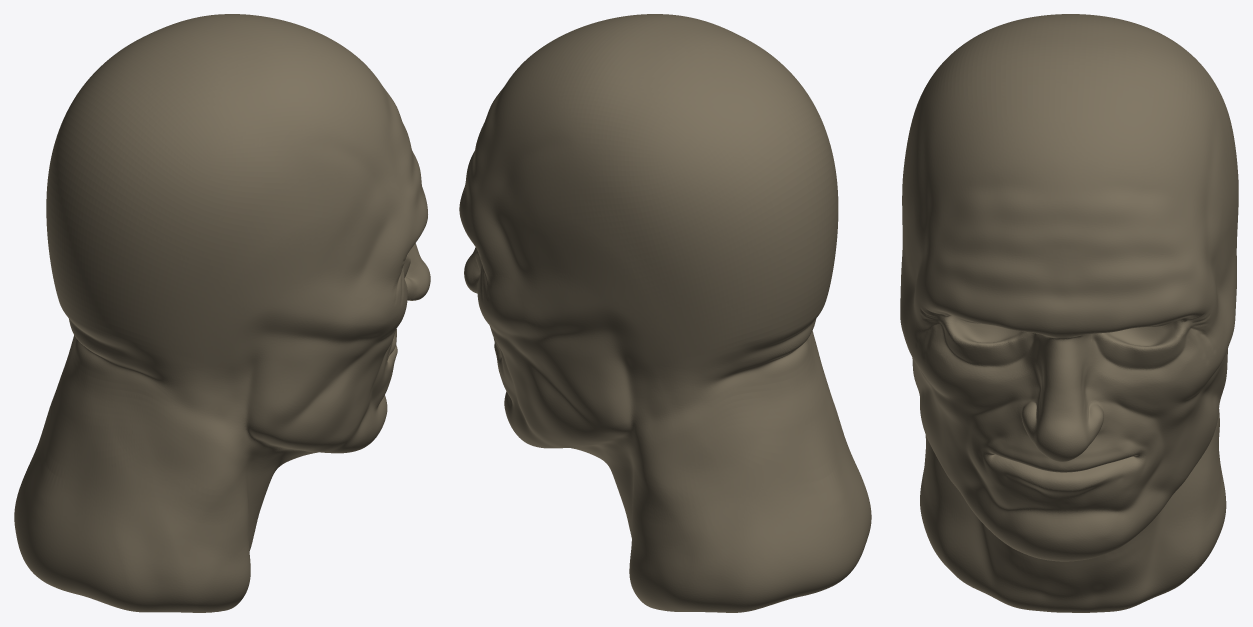
Rendered from face-sculpt.glb.
The picture shows the model from 3 angles, left to right: view 1: azimuth 30°, elevation 25°; view 2: azimuth 150°, elevation 25°; view 3: azimuth 270°, elevation 25°; orthographic projection. The views are drawn at different scales.
Visible parts, largest first — view 1: Quad Sphere; view 2: Quad Sphere; view 3: Quad Sphere.
Boxes of the visible parts, x1=… form: Quad Sphere: x1=14, y1=14, x2=430, y2=612; Quad Sphere: x1=459, y1=14, x2=871, y2=612; Quad Sphere: x1=900, y1=14, x2=1238, y2=612.
Size of the model in its own units: 6.29 by 8.4 by 4.36.
